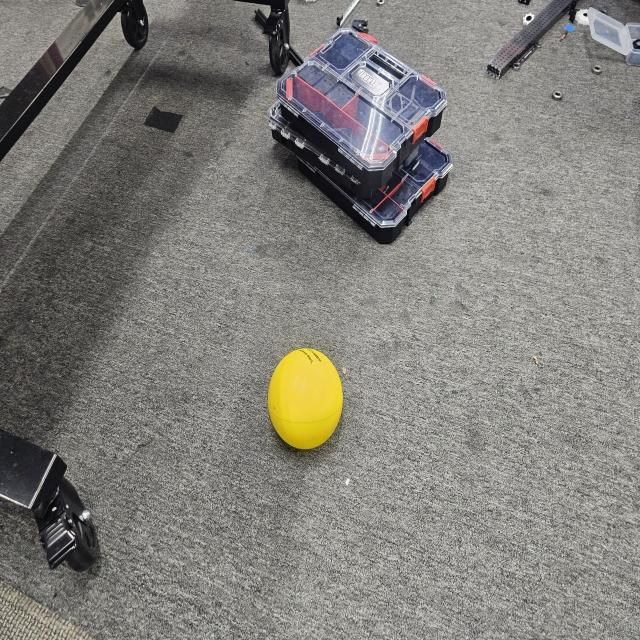Fuel: (260, 342, 352, 457)
